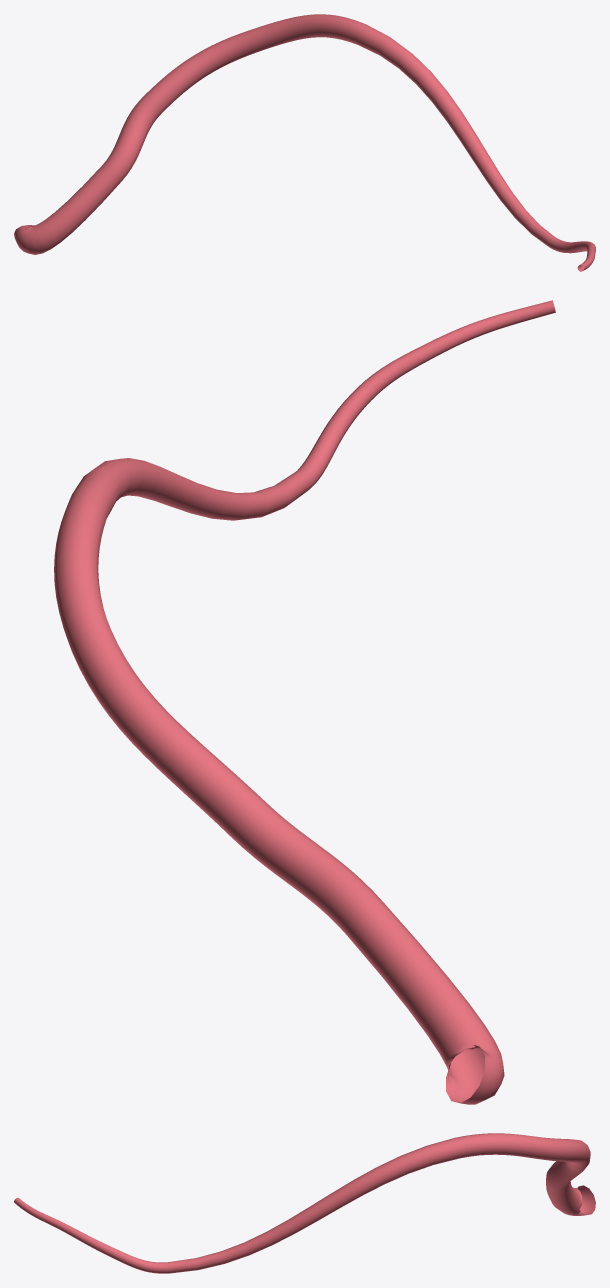
The picture shows the model from 3 angles, top to bottom: view 1: azimuth 30°, elevation 25°; view 2: azimuth 150°, elevation 25°; view 3: azimuth 270°, elevation 25°; orthographic projection. The views are drawn at different scales.
Parts seen in each view (by area): view 1: ZA_5606f49bcee110e4; view 2: ZA_5606f49bcee110e4; view 3: ZA_5606f49bcee110e4.
Boxes of the visible parts, x1,y1,x2,y2 form: ZA_5606f49bcee110e4: [14, 14, 595, 271]; ZA_5606f49bcee110e4: [54, 300, 555, 1104]; ZA_5606f49bcee110e4: [14, 1133, 595, 1273].
Size of the model in its own units: 0.0438 by 0.0269 by 0.0708.
